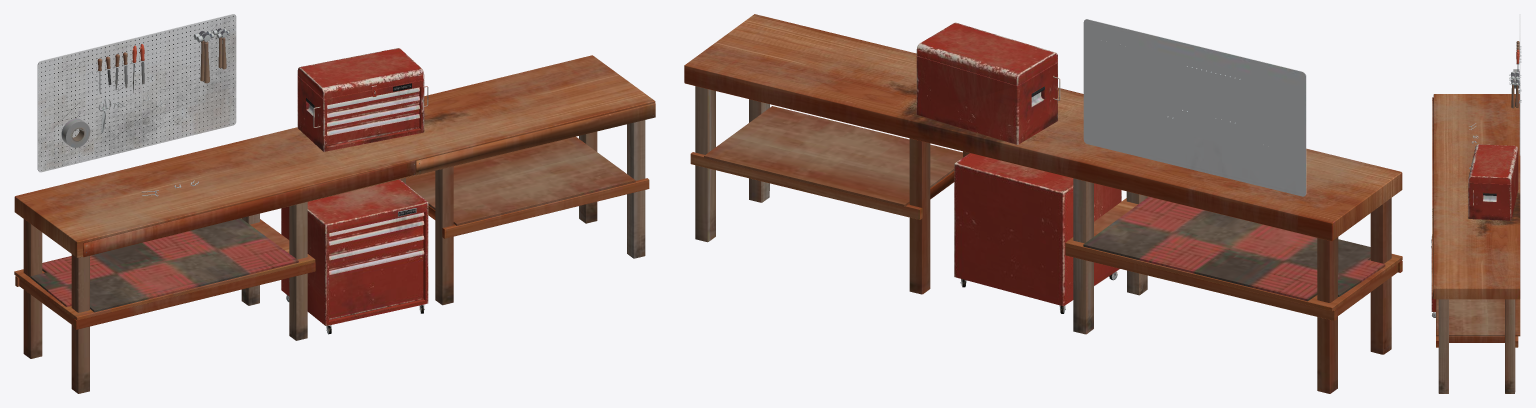
The model's file is rafli_tezgah.gltf.
3 renders of one model, left to right at view 1: azimuth 30°, elevation 25°; view 2: azimuth 150°, elevation 25°; view 3: azimuth 270°, elevation 25°, orthographic. The views are drawn at different scales.
Visible parts, largest first — view 1: rafli_tezgah; view 2: rafli_tezgah; view 3: rafli_tezgah.
Boxes of the visible parts, x1,y1,x2,y2 form: rafli_tezgah: [14, 14, 655, 393]; rafli_tezgah: [684, 14, 1402, 393]; rafli_tezgah: [1431, 14, 1521, 393].
Size of what is drawn, in the model's own units: 3.72 by 1.75 by 0.7278.
Materials: 1 (1 with a texture image).
